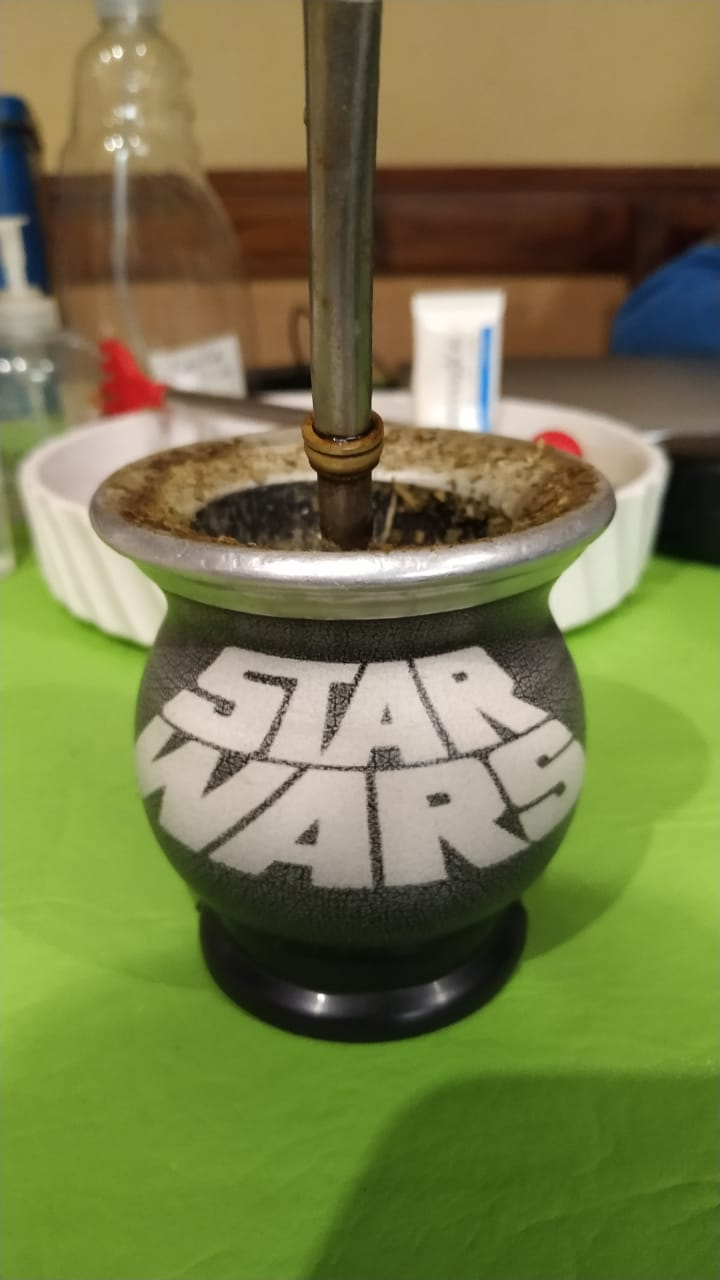madera: (88, 3, 625, 1056)
mate: (86, 1, 623, 1054)
